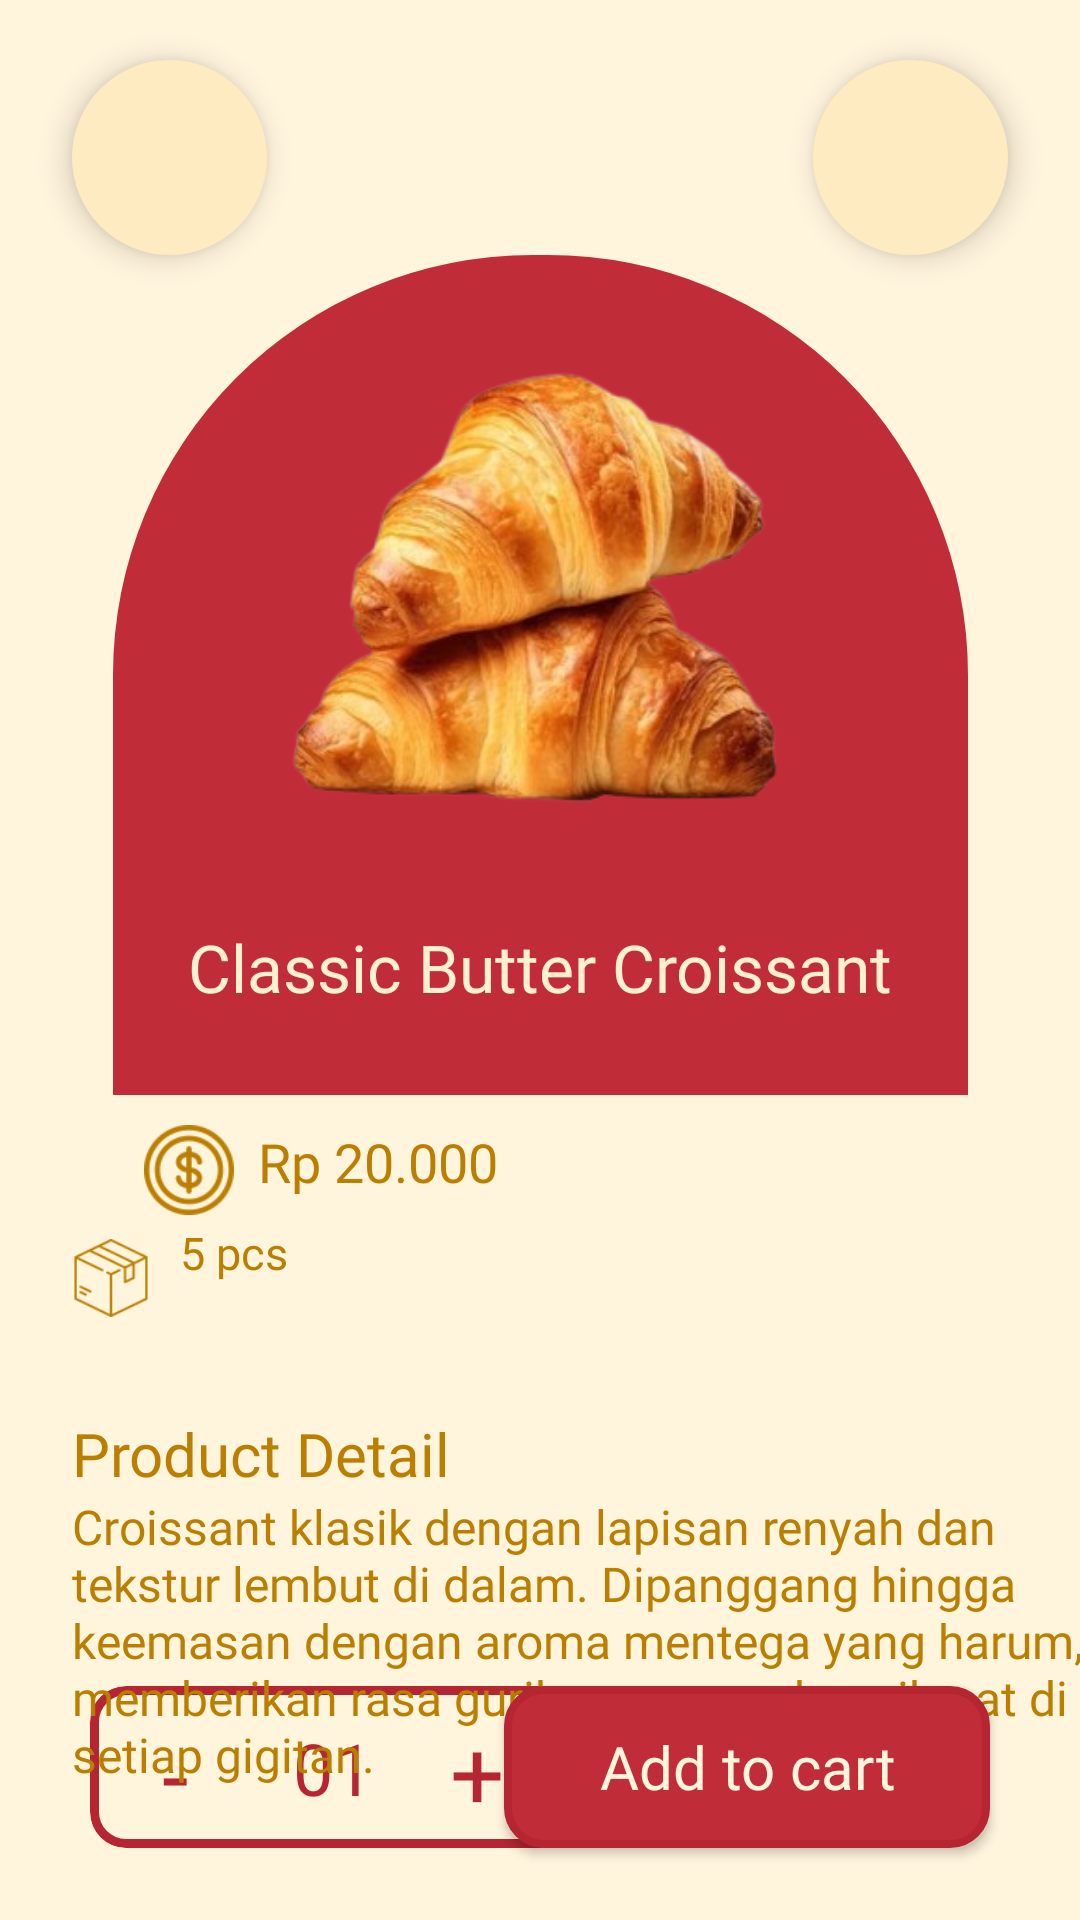

Named icons in this screenshot (1080 x 1920) and their centers, (x,y):
box: (111,1278)
money: (189,1170)
